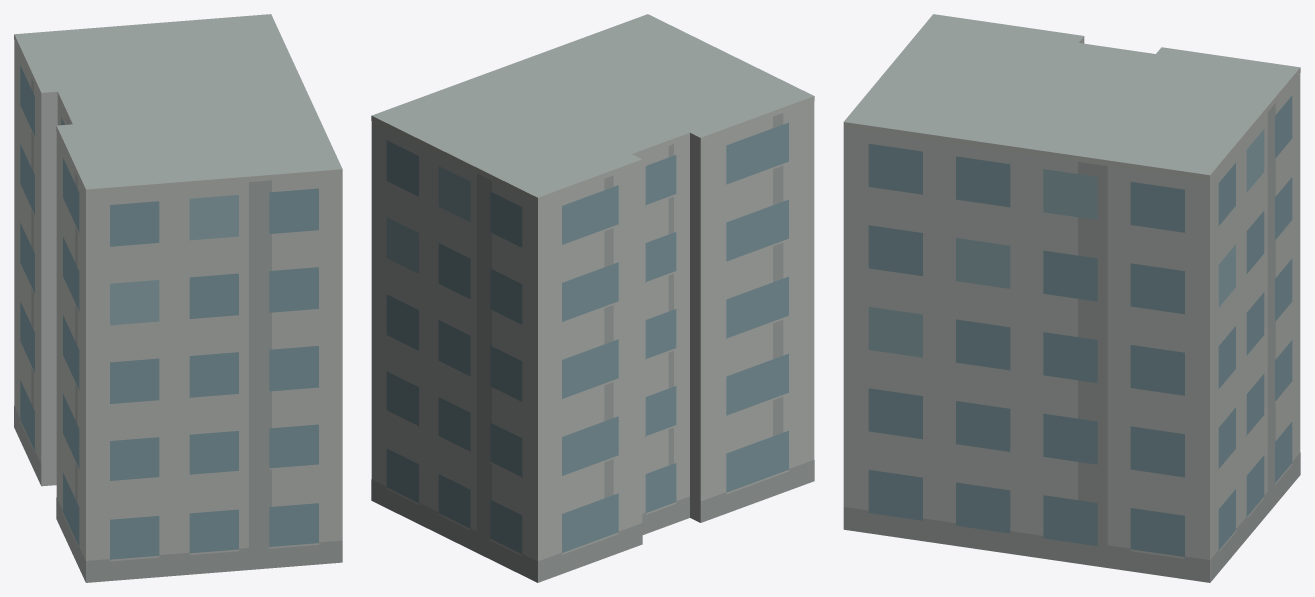
File: survey-upis-32891720.glb
The picture shows the model from 3 angles, left to right: view 1: azimuth 30°, elevation 25°; view 2: azimuth 150°, elevation 25°; view 3: azimuth 270°, elevation 25°; orthographic projection. The views are drawn at different scales.
Parts seen in each view (by area): view 1: survey-upis-32891720.tmp; view 2: survey-upis-32891720.tmp; view 3: survey-upis-32891720.tmp.
Part boxes in pixels (box(x1,y1,x2,y2)): survey-upis-32891720.tmp: box(14, 14, 342, 582); survey-upis-32891720.tmp: box(371, 14, 814, 582); survey-upis-32891720.tmp: box(843, 14, 1300, 582).
Size of the model in its own units: 14.64 by 17.25 by 17.53.
